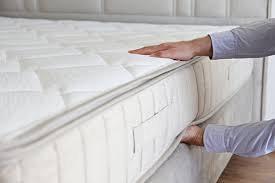bed-matress: (1, 14, 265, 183)
